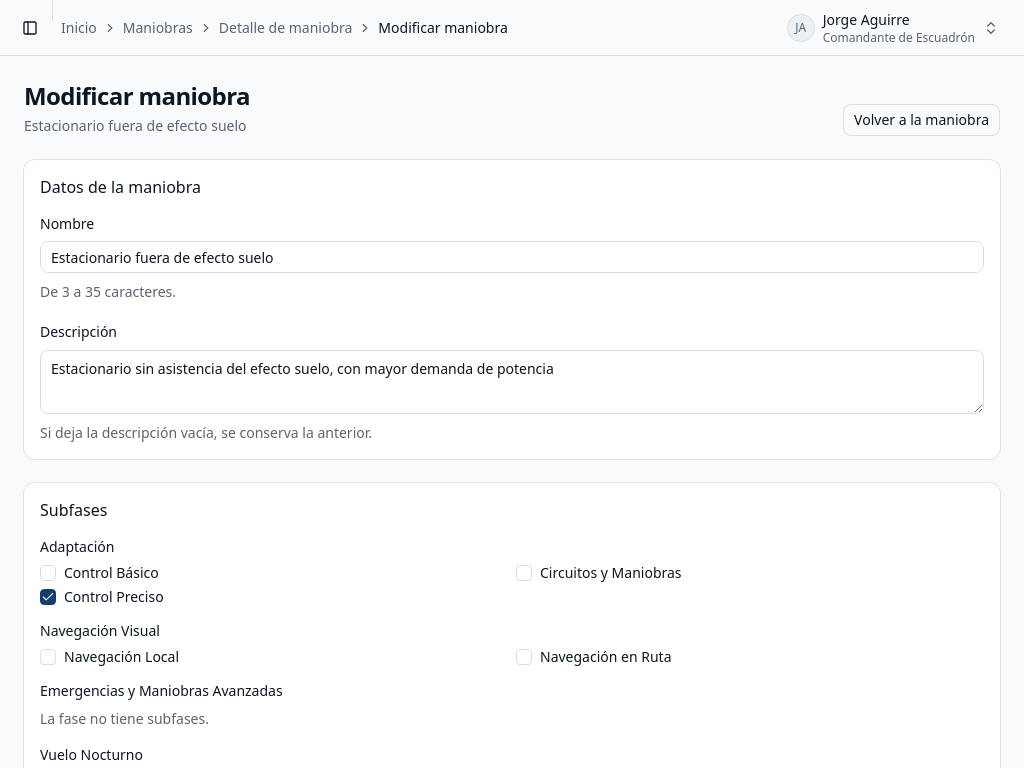
Test: Formulario de maniobra › CA-MAN-04 modificar precarga las subfases actuales y avisa sobre la descripción
Expected: the field labelled "Nombre" holds "Estacionario fuera de efecto suelo", [40, 241, 984, 273]
Expected: the checkbox named "Control Preciso" next to "Control Preciso" is checked, [40, 588, 56, 604]
Click the checkbox named "Circuitos y Maniobras" next to "Circuitos y Maniobras": (524, 572) [516, 564, 532, 580]
(page scrolled)
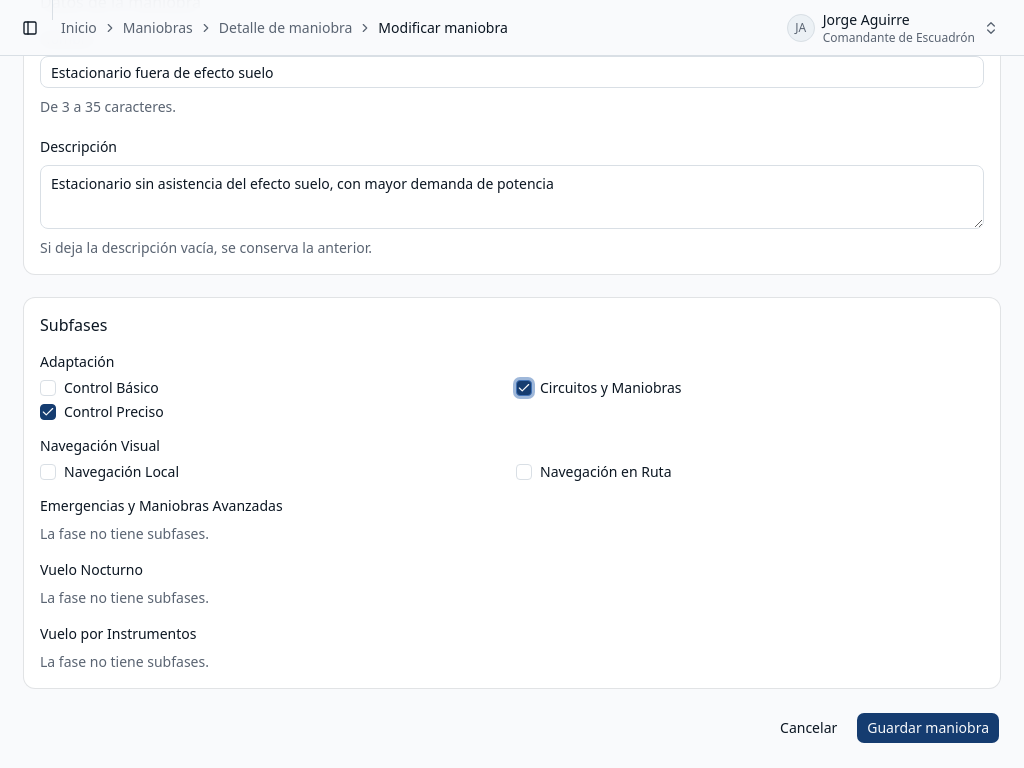
Click the button "Guardar maniobra": (928, 728) [856, 712, 1000, 744]
(page scrolled)
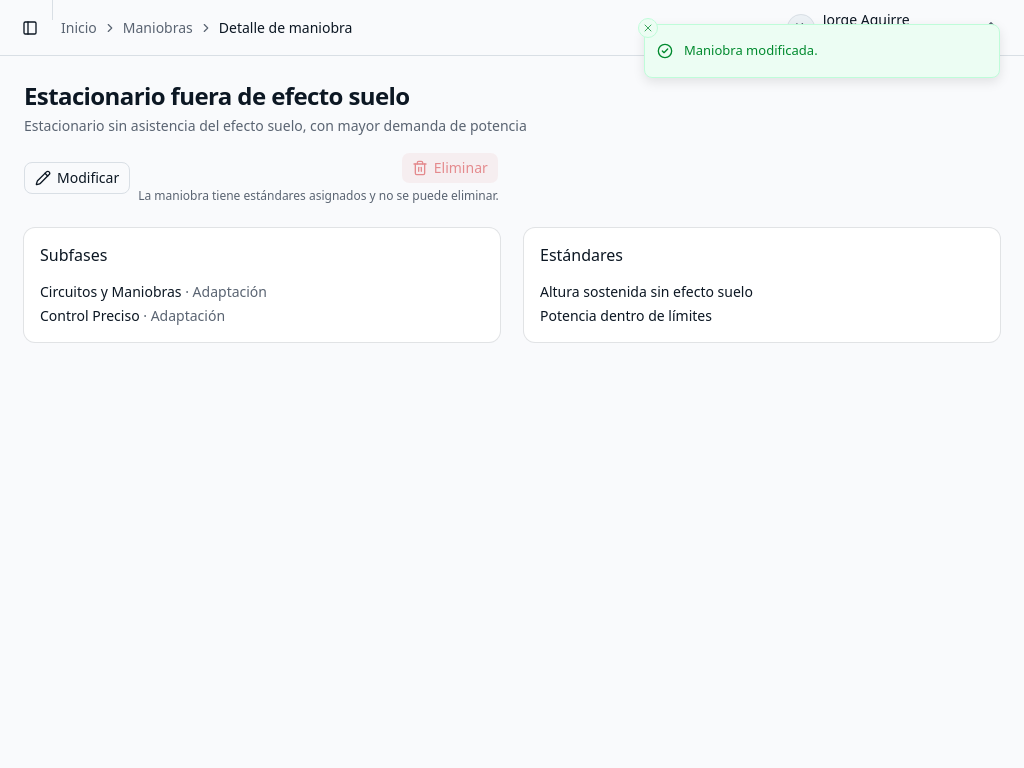
Expected: the text "Maniobra modificada." is shown, [684, 41, 818, 60]
Expected: the list item "Circuitos y Maniobras" is shown, [40, 282, 182, 301]
